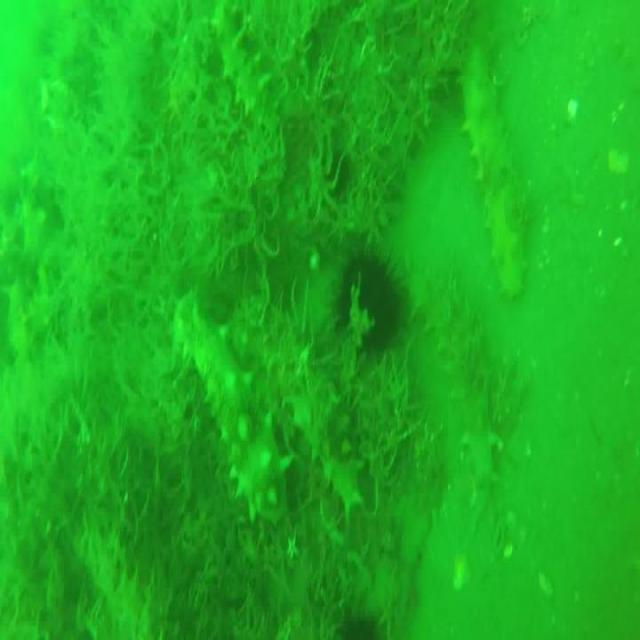echinus: (333, 248, 401, 362)
holothurian: (230, 302, 375, 514), (167, 294, 294, 517), (408, 273, 494, 520), (448, 35, 527, 297), (203, 4, 281, 132)
